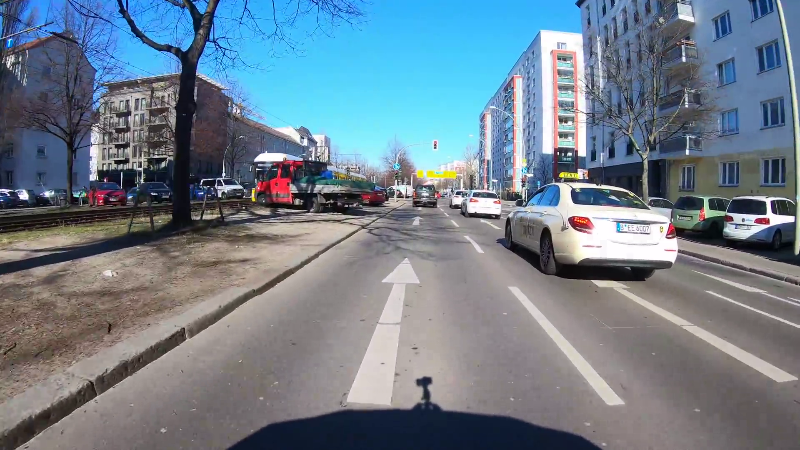Plate: (615, 220, 651, 234)
